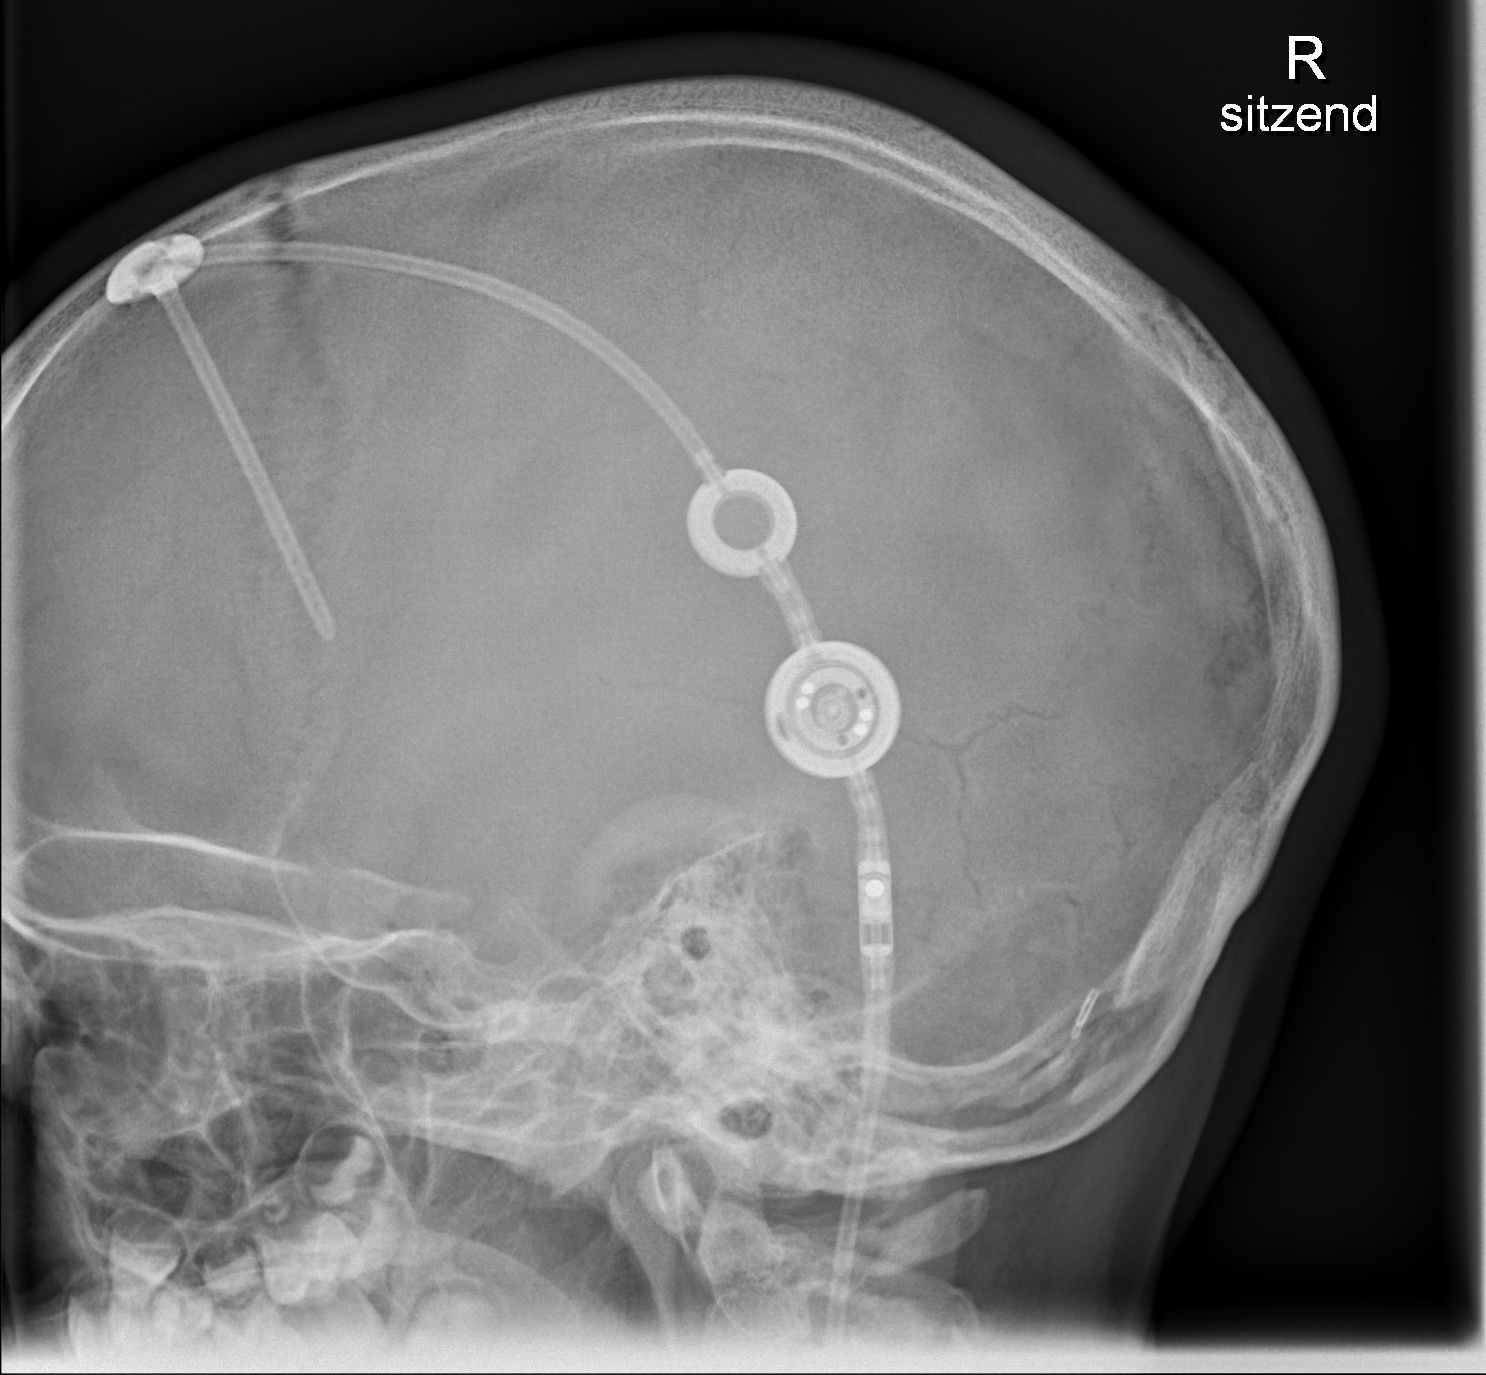proGAV 2.0: (756, 636, 909, 786)
proGAV Gravitationseinheit: (845, 820, 902, 998)
